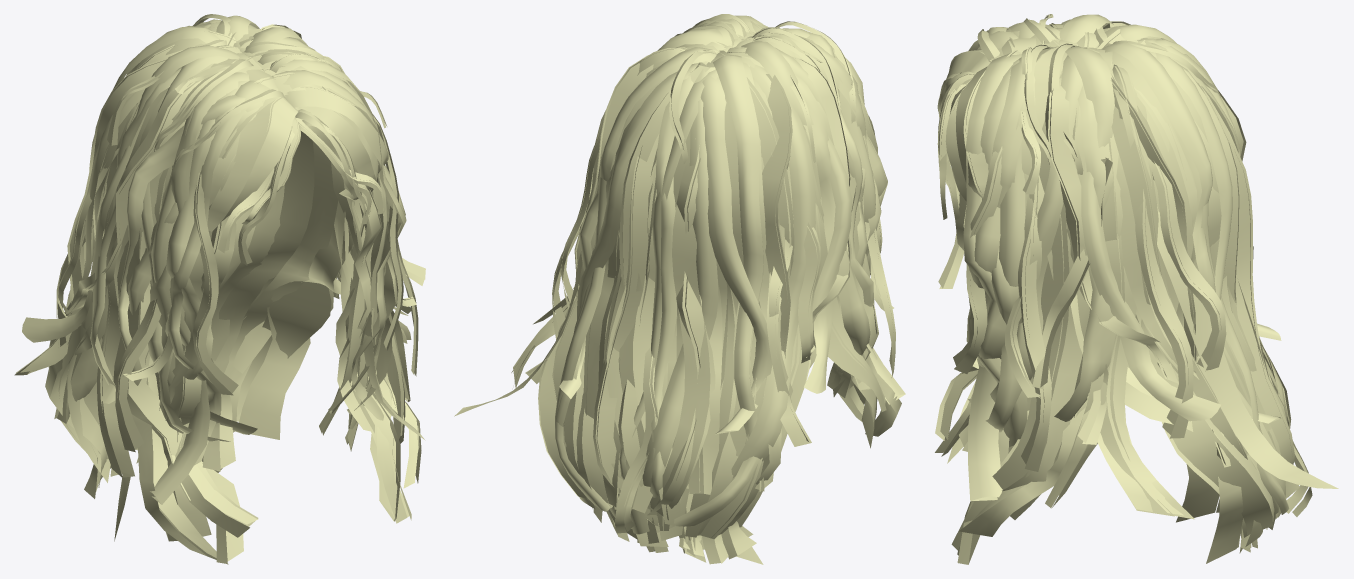
Rendered from medium-straight-transformed.glb.
3 views of the same model, side by side, from view 1: azimuth 30°, elevation 25°; view 2: azimuth 150°, elevation 25°; view 3: azimuth 270°, elevation 25° (orthographic). The views are drawn at different scales.
Visible parts, largest first — view 1: Object_5; view 2: Object_5; view 3: Object_5.
Part boxes in pixels (x1,y1,x2,y2): Object_5: (14, 14, 425, 564); Object_5: (454, 14, 905, 564); Object_5: (935, 14, 1338, 564).
Bounding box in the file's own units: 15.14 × 21.11 × 14.71.
